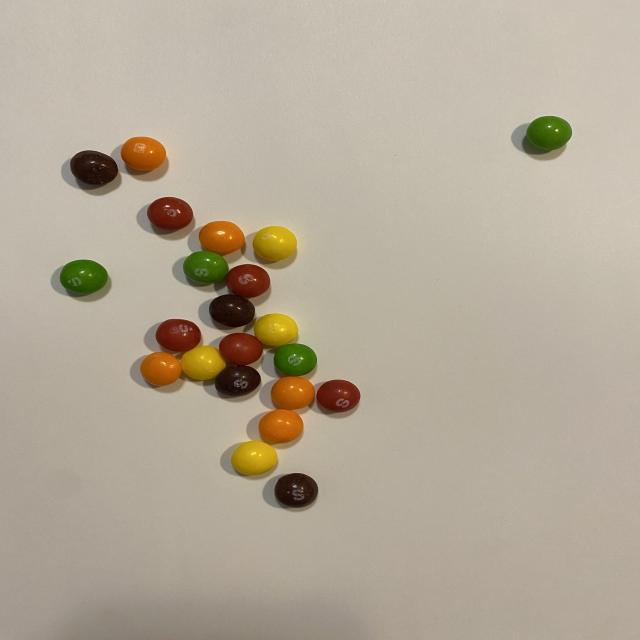smartie: (230, 441, 277, 476), (69, 150, 117, 184), (59, 260, 107, 294), (527, 115, 573, 150), (198, 221, 244, 255), (182, 250, 228, 284), (208, 294, 255, 327), (252, 226, 296, 261), (180, 346, 225, 380), (120, 136, 165, 170), (258, 410, 303, 444), (146, 197, 192, 230), (154, 319, 200, 352), (274, 474, 318, 508), (225, 264, 269, 298), (270, 377, 314, 410), (139, 352, 181, 386), (254, 314, 298, 346), (273, 344, 317, 376), (316, 380, 360, 412), (214, 366, 260, 396), (219, 333, 262, 365)
